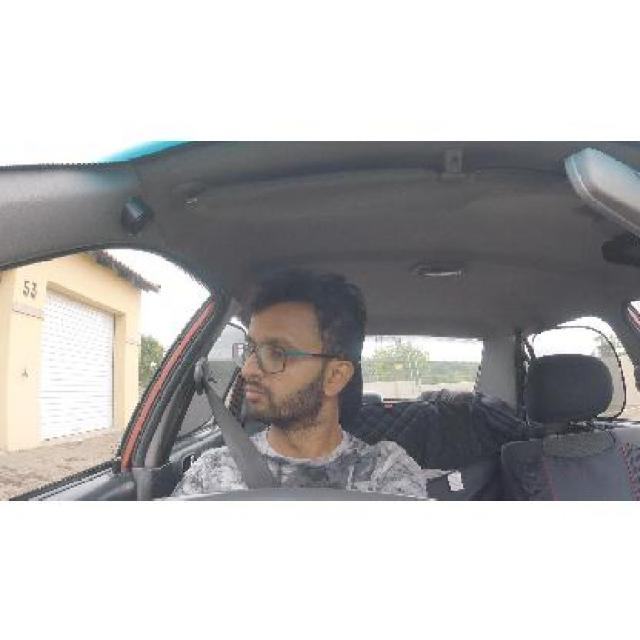LeftRight: (235, 288, 354, 424)
